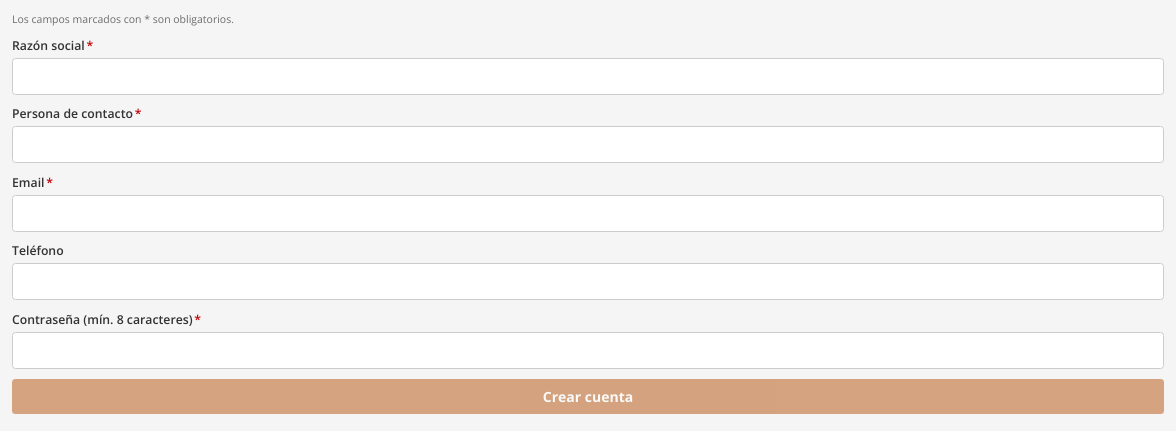
Test case: RegisterForm › falls back to the login link when the automatic sign-in fails
This screenshot has width=1176, height=431.
Type "Empresa Test" into the field labelled "Razón social*".
click(588, 76); type("Empresa Test")  # box [12, 58, 1164, 94]
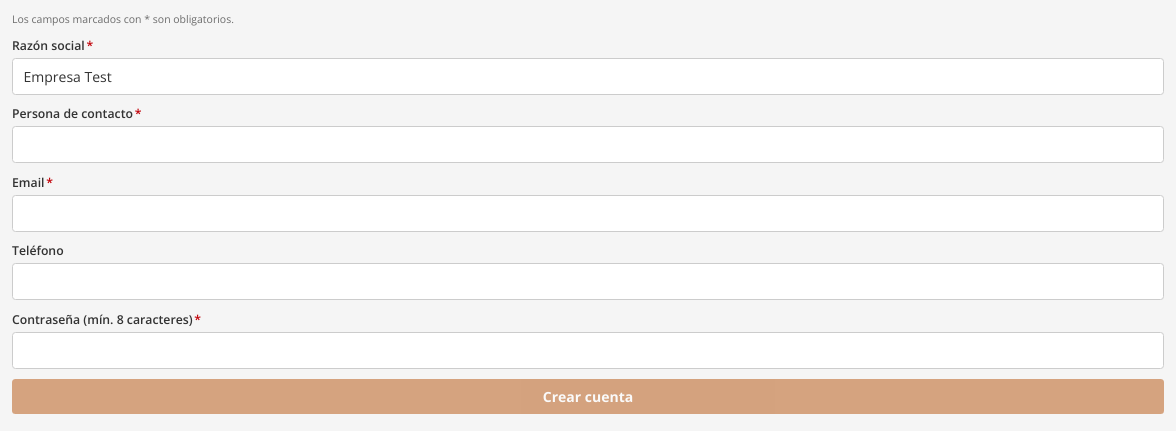
Type "Juan Pérez" into the field labelled "Persona de contacto*".
click(588, 144); type("Juan Pérez")  # box [12, 126, 1164, 163]
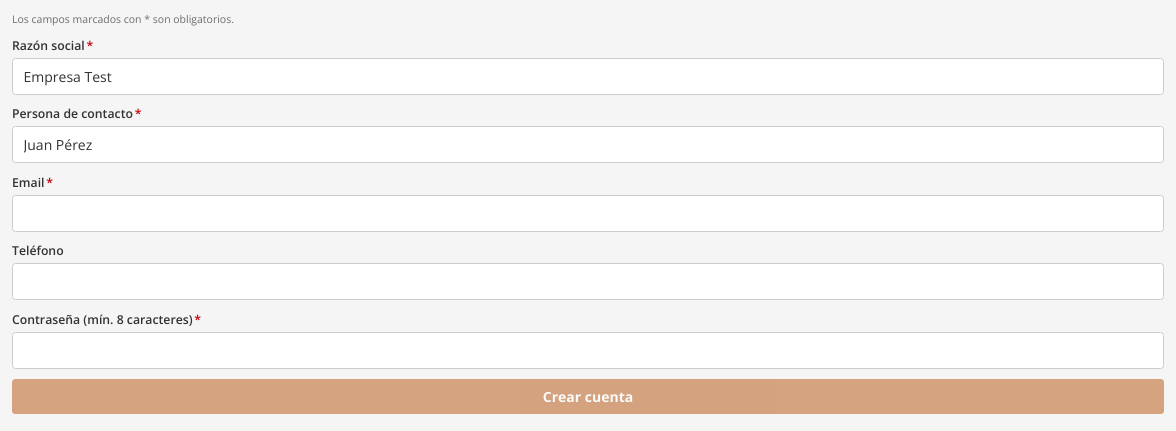
Type "test@example.com" into the field labelled "Email*".
click(588, 213); type("test@example.com")  # box [12, 194, 1164, 232]
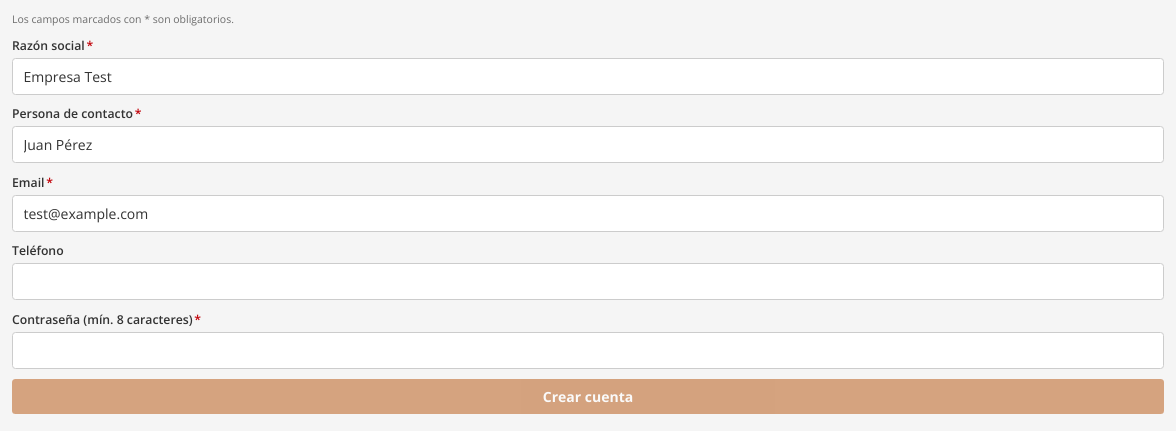
Type "555-1234" into the field labelled "Teléfono".
click(588, 282); type("555-1234")  # box [12, 263, 1164, 300]
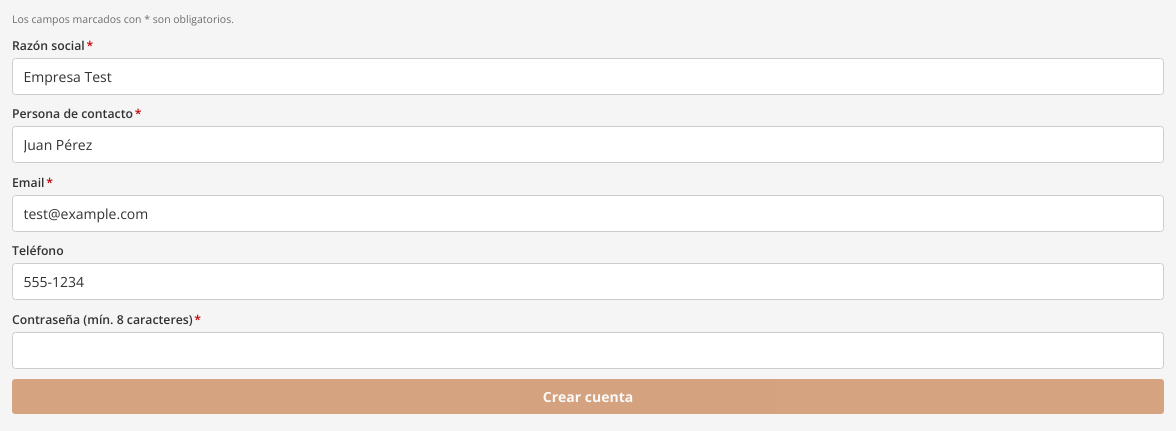
Type "password123" into the password field labelled "Contraseña (mín. 8 caracteres)*".
click(588, 350); type("password123")  # box [12, 332, 1164, 368]
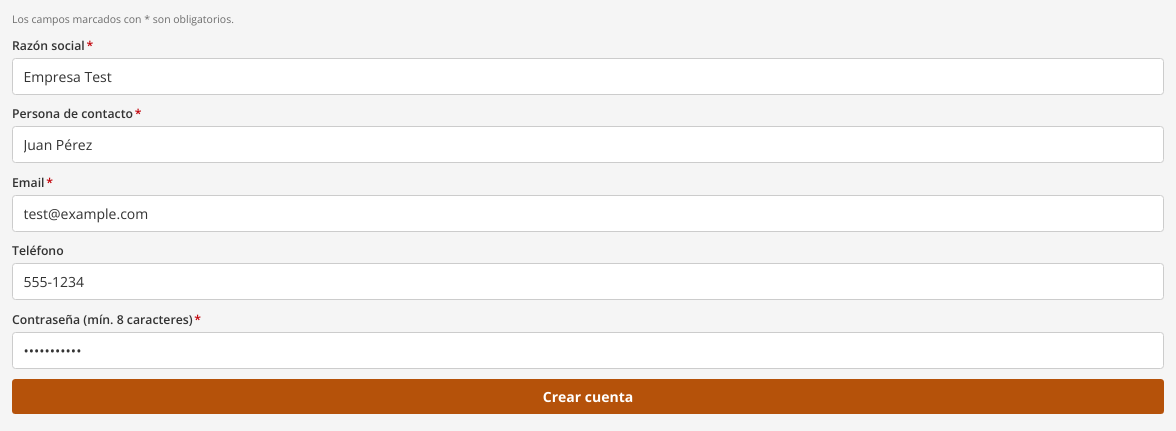
Click the button "Crear cuenta".
click(588, 396)  # box [12, 379, 1164, 414]
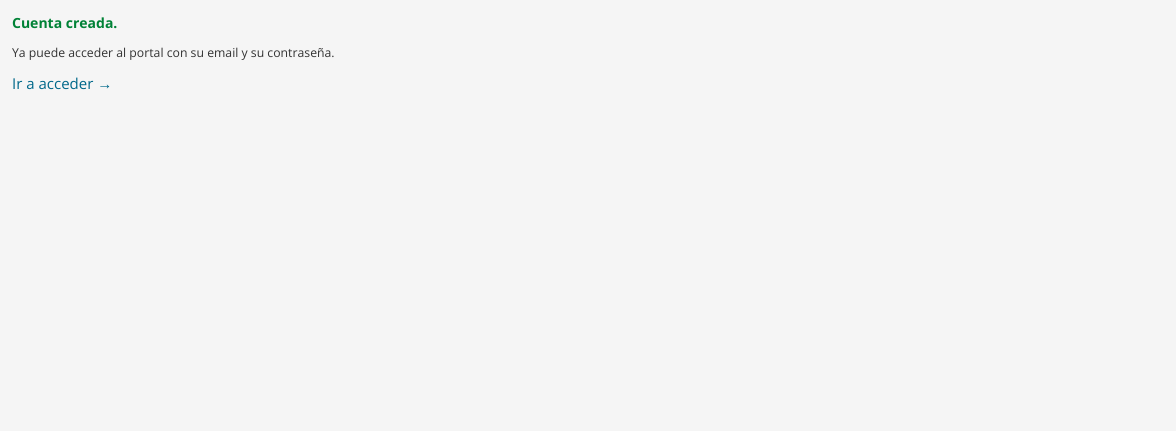
Now the message shows "Cuenta creada.", box [12, 13, 117, 32]
Now the form is gone
